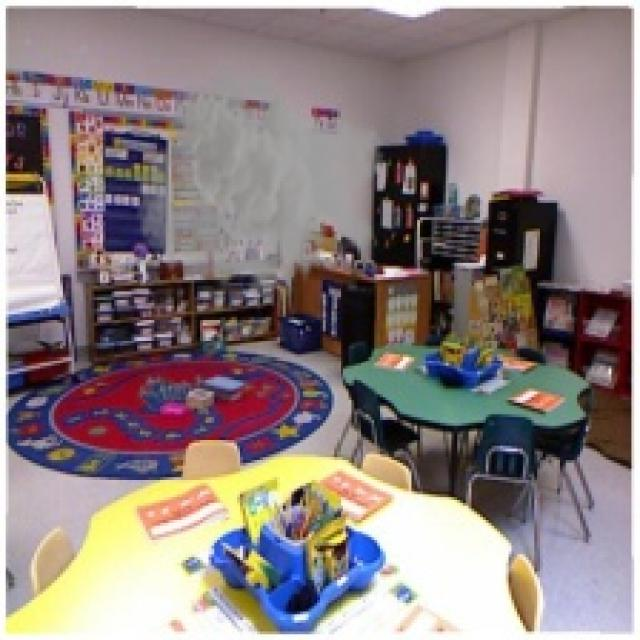smoke: (134, 57, 386, 317)
